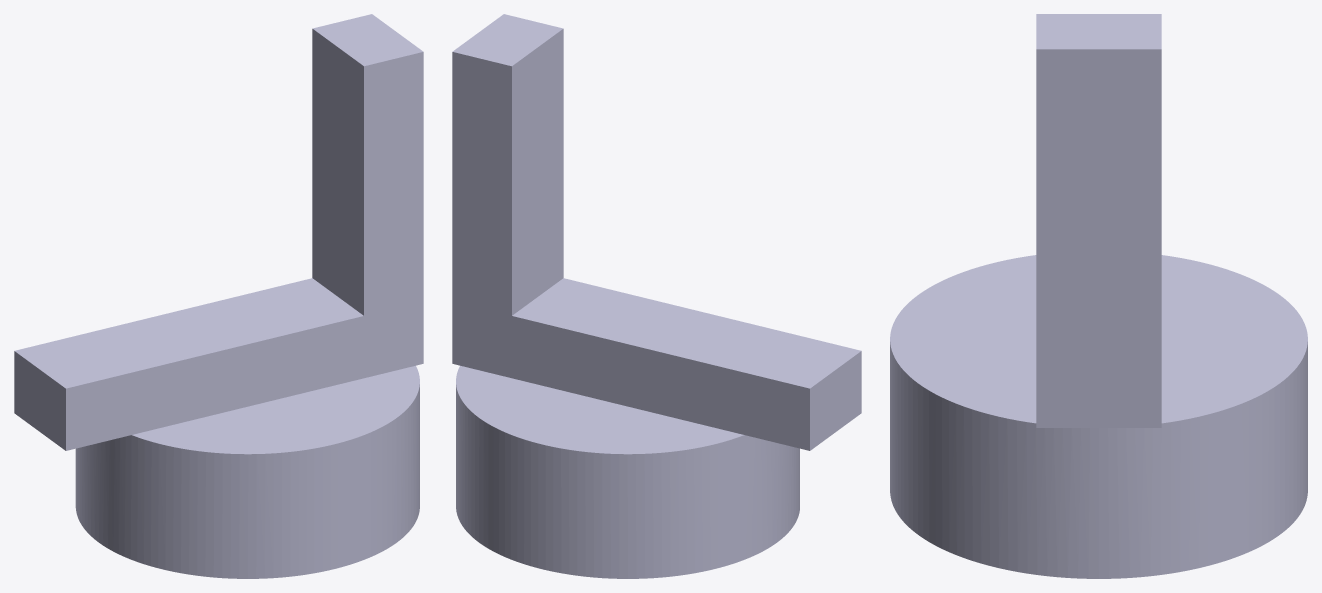
Rendered from Unnamed_base_link_body.dae.
3 renders of one model, left to right at view 1: azimuth 30°, elevation 25°; view 2: azimuth 150°, elevation 25°; view 3: azimuth 270°, elevation 25°, orthographic. The views are drawn at different scales.
Parts seen in each view (by area): view 1: node0; view 2: node0; view 3: node0.
Boxes of the visible parts, x1=… form: node0: x1=14, y1=14, x2=423, y2=578; node0: x1=452, y1=14, x2=861, y2=578; node0: x1=890, y1=14, x2=1307, y2=578.
Size of the model in its own units: 0.12 by 0.1 by 0.14.
